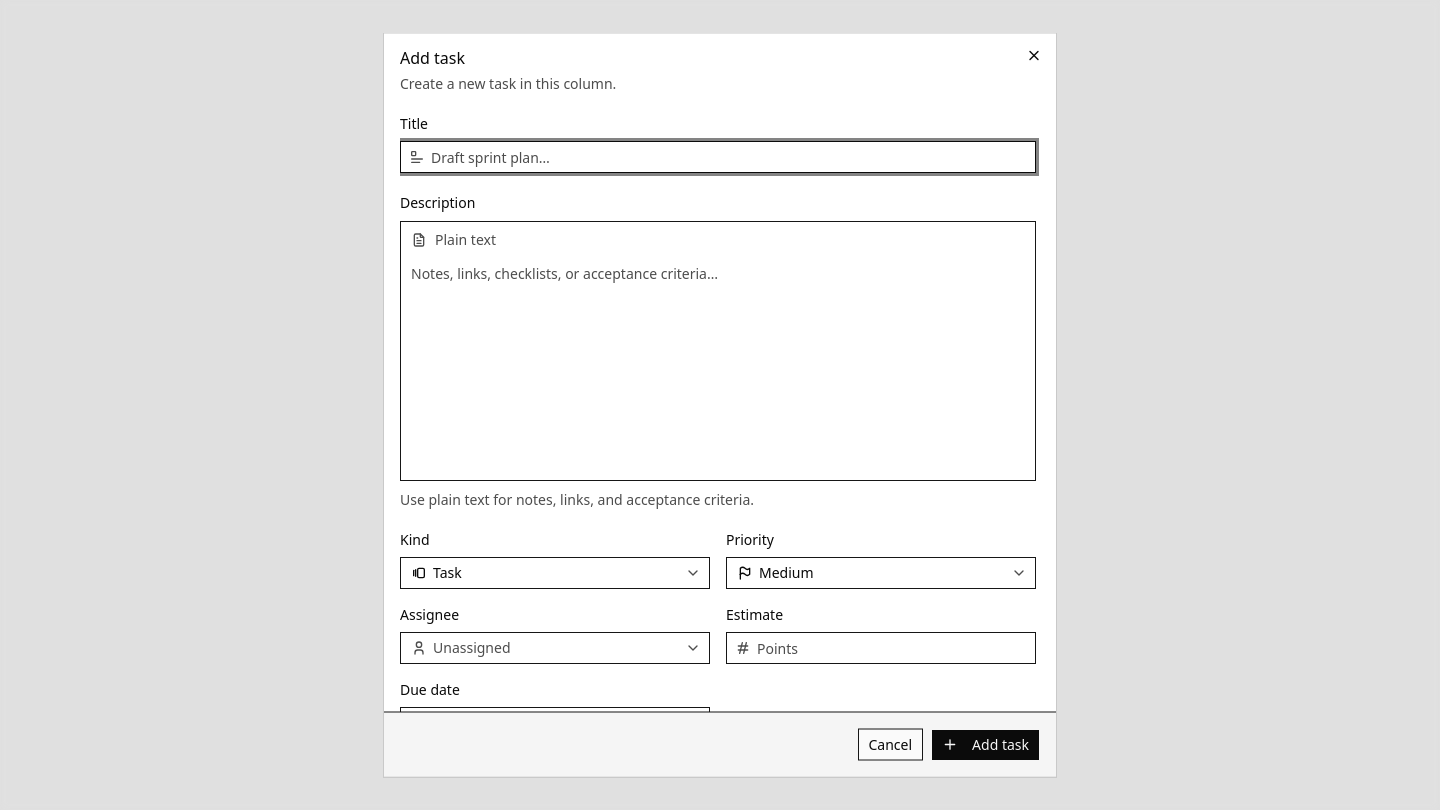
Test case: task assignment dialogs › renders assignee options when creating a task
Click the dropdown named "Assignee".
click(472, 647)  # box left=400, top=632, right=710, bottom=664
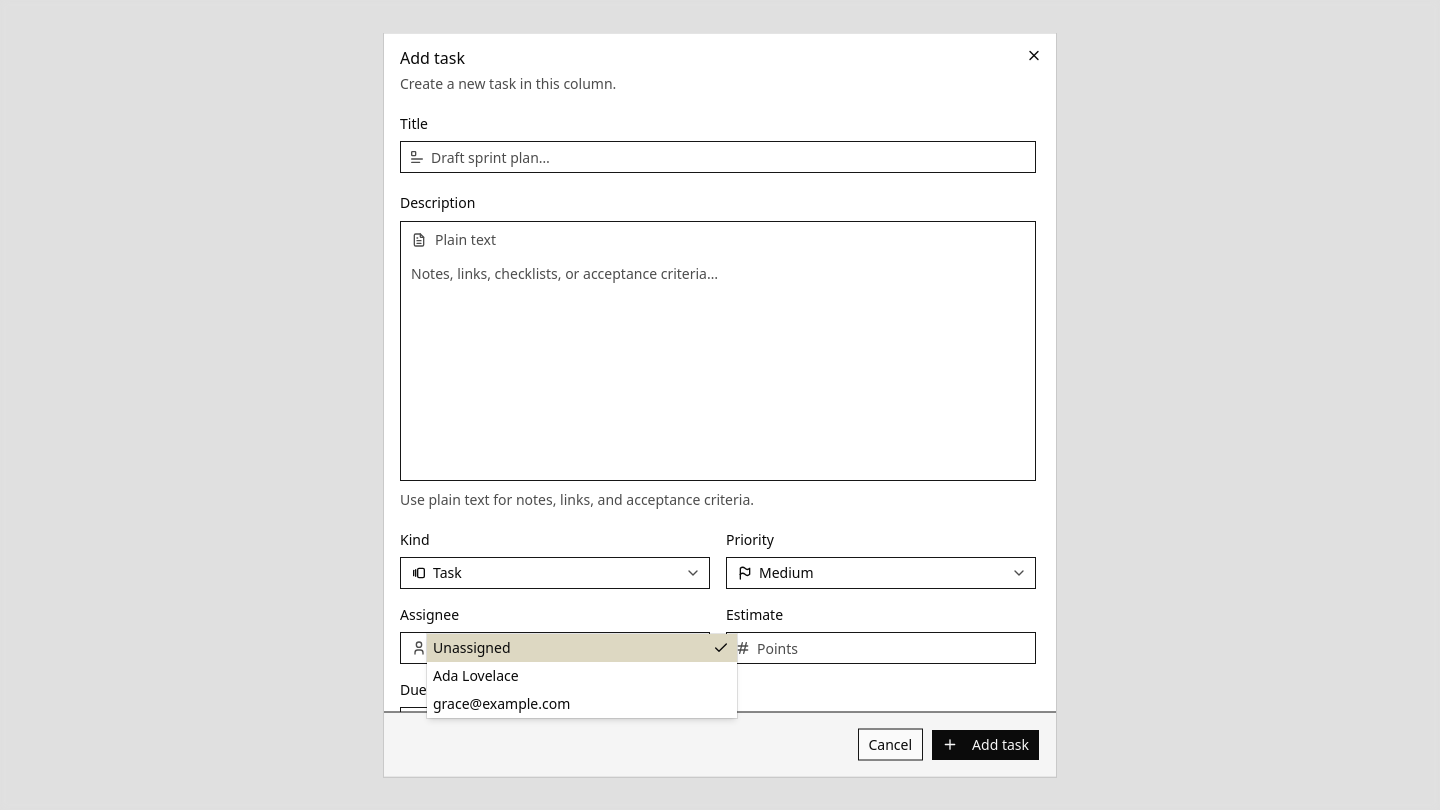
Expected: the text "Unassigned" below "Assignee" is shown, left=433, top=638, right=510, bottom=656
Now the text "Ada Lovelace" is shown, box left=433, top=666, right=519, bottom=684
Now the text "grace@example.com" is shown, box left=433, top=694, right=570, bottom=712
